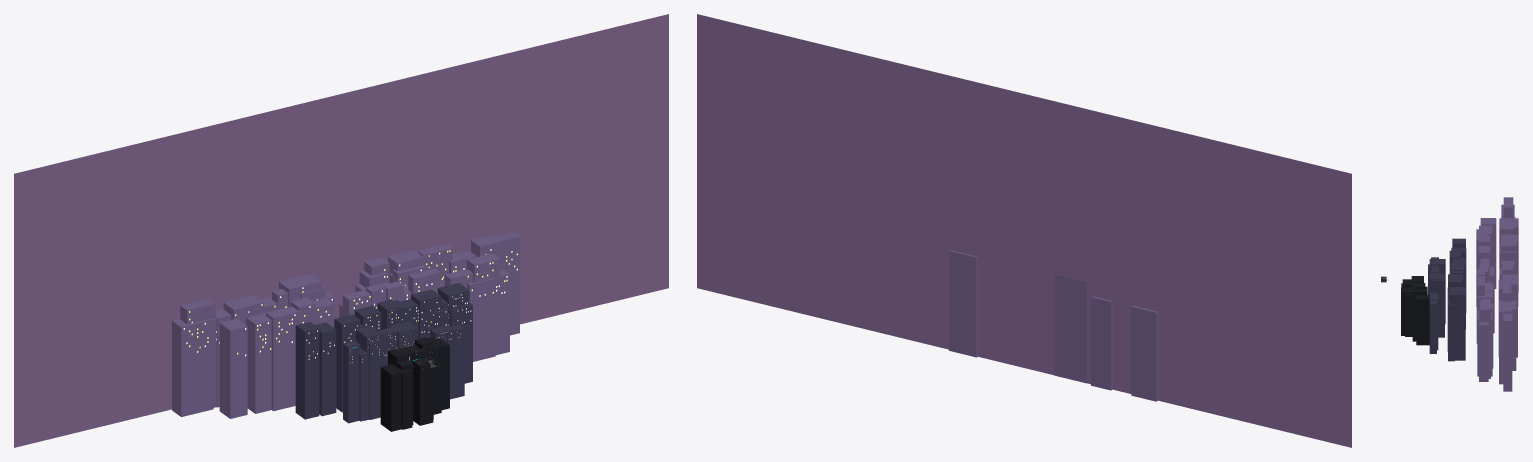
File: desk.glb
The picture shows the model from 3 angles, left to right: view 1: azimuth 30°, elevation 25°; view 2: azimuth 150°, elevation 25°; view 3: azimuth 270°, elevation 25°; orthographic projection. The views are drawn at different scales.
Visible parts, largest first — view 1: SkyGradient, CityBuildingsFar, CityBuildingsMid, CityBuildingsNear; view 2: SkyGradient, CityBuildingsFar; view 3: CityBuildingsFar, CityBuildingsMid, CityBuildingsNear.
Boxes of the visible parts, x1,y1,x2,y2 form: SkyGradient: (14, 14, 668, 447); CityBuildingsFar: (172, 232, 519, 418); CityBuildingsMid: (295, 283, 472, 423); CityBuildingsNear: (380, 337, 449, 431); SkyGradient: (697, 14, 1351, 447); CityBuildingsFar: (949, 250, 1157, 401); CityBuildingsFar: (1476, 197, 1518, 391); CityBuildingsMid: (1428, 238, 1466, 361); CityBuildingsNear: (1401, 276, 1429, 345).
Size of the model in its own units: 400 by 160 by 100.
Materials: 104 (22 with a texture image).
